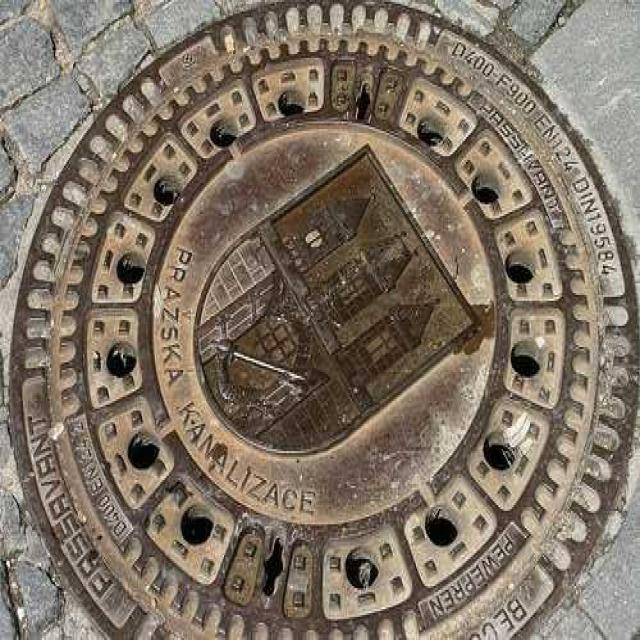manhole: (10, 0, 640, 639)
